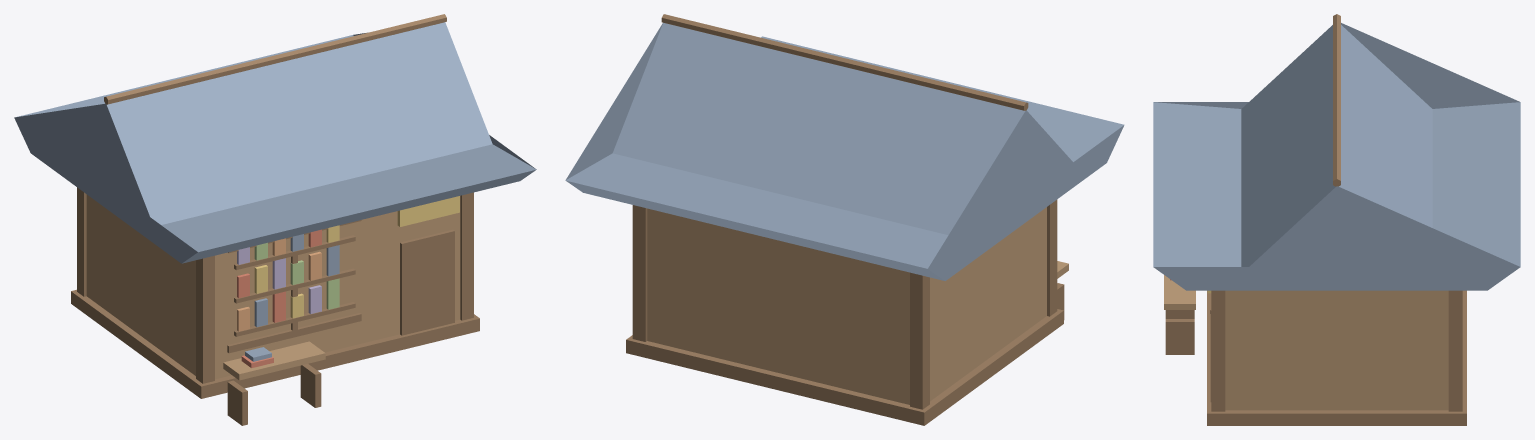
File: library.glb
3 views of the same model, side by side, from view 1: azimuth 30°, elevation 25°; view 2: azimuth 150°, elevation 25°; view 3: azimuth 270°, elevation 25° (orthographic). The views are drawn at different scales.
Visible parts, largest first — view 1: roof, walls, trim_bot, door, ridge, corner_-1_1, corner_1_1, bench, win_frame_b, sign, corner_-1_-1, bench_leg_1 (+4 smaller); view 2: roof, walls, trim_bot, ridge, corner_-1_-1, corner_1_-1, corner_-1_1; view 3: roof, walls, trim_bot, corner_1_1, corner_1_-1, ridge, bench_leg_1, bench.
Boxes of the visible parts, x1=… form: roof: x1=14, y1=22, x2=536, y2=263; walls: x1=86, y1=194, x2=460, y2=379; trim_bot: x1=71, y1=289, x2=479, y2=398; door: x1=400, y1=229, x2=454, y2=335; ridge: x1=104, y1=14, x2=446, y2=104; corner_-1_1: x1=196, y1=255, x2=214, y2=383; corner_1_1: x1=460, y1=192, x2=473, y2=320; bench: x1=223, y1=341, x2=325, y2=380; win_frame_b: x1=227, y1=313, x2=361, y2=353; sign: x1=397, y1=196, x2=459, y2=226; corner_-1_-1: x1=77, y1=187, x2=86, y2=296; bench_leg_1: x1=300, y1=364, x2=321, y2=407; roof: x1=565, y1=22, x2=1124, y2=280; walls: x1=647, y1=207, x2=1046, y2=404; trim_bot: x1=626, y1=309, x2=1063, y2=425; ridge: x1=661, y1=14, x2=1028, y2=110; corner_-1_-1: x1=910, y1=272, x2=929, y2=409; corner_1_-1: x1=632, y1=205, x2=647, y2=341; corner_-1_1: x1=1047, y1=199, x2=1057, y2=316; roof: x1=1153, y1=23, x2=1520, y2=290; walls: x1=1225, y1=290, x2=1448, y2=410; trim_bot: x1=1207, y1=290, x2=1466, y2=425; corner_1_1: x1=1211, y1=290, x2=1225, y2=411; corner_1_-1: x1=1448, y1=290, x2=1462, y2=411; ridge: x1=1333, y1=14, x2=1340, y2=186; bench_leg_1: x1=1165, y1=319, x2=1194, y2=354; bench: x1=1164, y1=275, x2=1195, y2=309.
Bounding box in the file's own units: 4.58 × 3.6 × 4.31.
